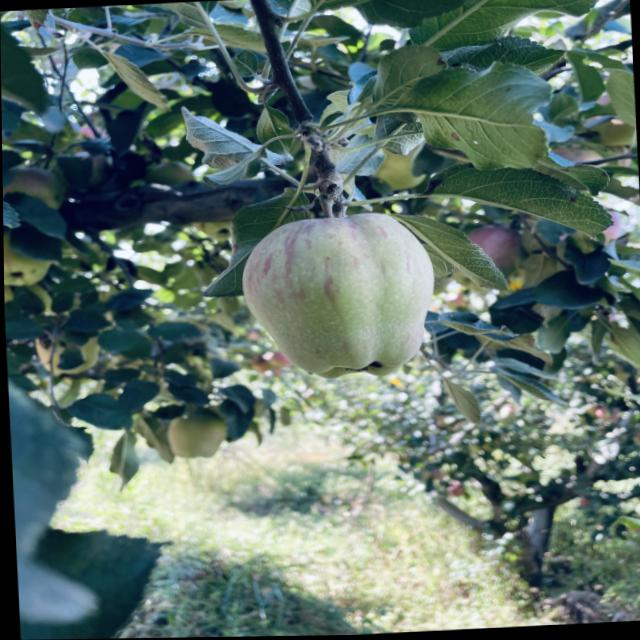Apple: (241, 214, 433, 375)
